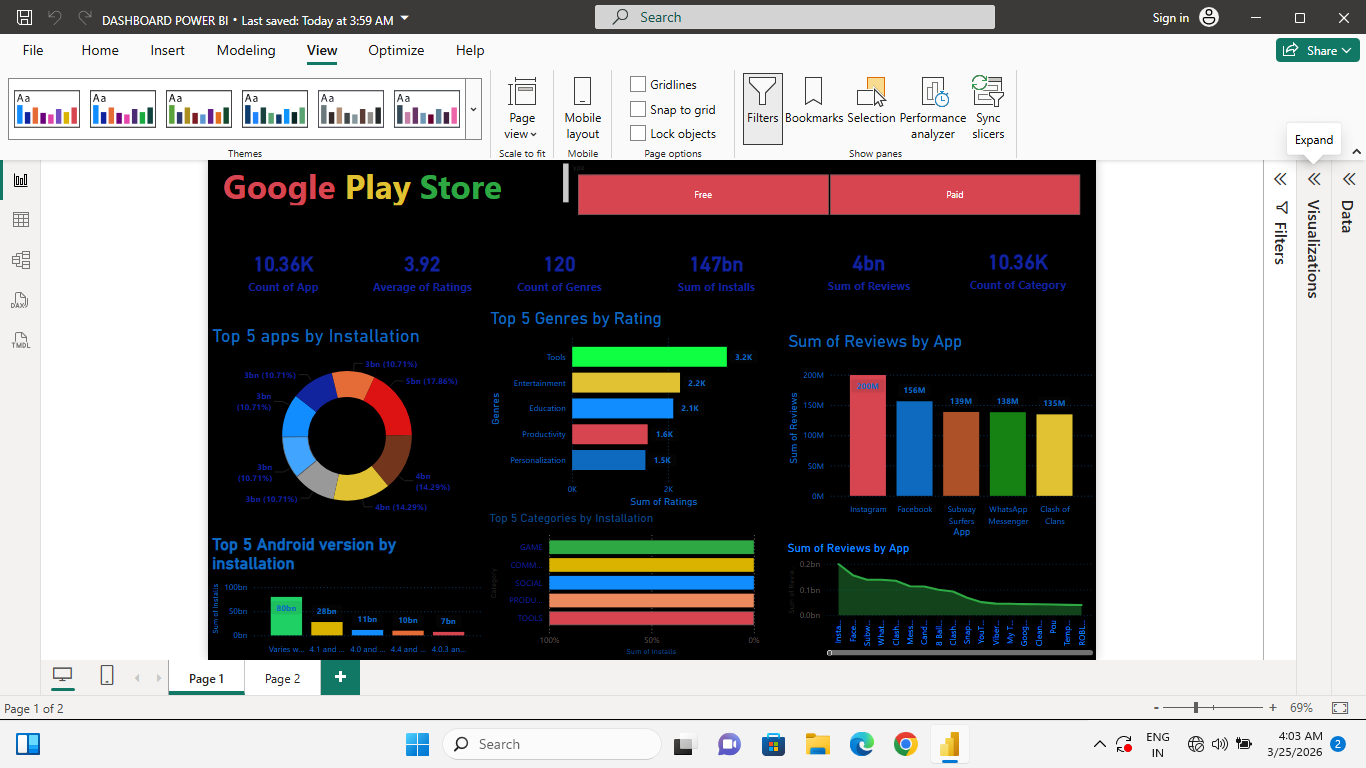

The dashboard page shown, as its layout file describes it:
{"tool":"powerbi","page":{"name":"Page 1","canvas":[1280,720],"ordinal":0},"visuals":[{"type":"card","fields":{"Values":["CountNonNull(Table1.App)"]},"box":[0,70.6,217.4,175.7],"z":0},{"type":"card","fields":{"Values":["Avg(Table1.Ratings)"]},"box":[217.4,70.6,182.9,174.2],"z":1000},{"type":"card","fields":{"Values":["Count(Table1.Genres)"]},"box":[400.3,70.6,211.7,174.2],"z":2000},{"type":"card","fields":{"Values":["Sum(Table1.Installs)"]},"box":[612,70.6,240.5,174.2],"z":3000},{"type":"card","fields":{"Values":["Sum(Table1.Reviews)"]},"box":[851,70.6,201.6,172.8],"z":4000},{"type":"card","fields":{"Values":["CountNonNull(Table1.Category)"]},"box":[1052.6,70.6,227.5,169.9],"z":5000},{"type":"donutChart","title":"Top 5 apps by Installation ","fields":{"Category":["Table1.App"],"Y":["Sum(Table1.Installs)"]},"box":[0,236.2,400.3,292.3],"z":6000},{"type":"barChart","title":"Top 5 Genres by Rating","fields":{"Category":["Table1.Genres"],"Y":["Sum(Table1.Ratings)"]},"box":[399.8,213.3,401.5,292.3],"z":7000},{"type":"columnChart","fields":{"Category":["Table1.App"],"Y":["Sum(Table1.Reviews)"]},"box":[829.8,246.9,450.2,302.4],"z":8000},{"type":"columnChart","title":"Top 5 Android version by installation ","fields":{"Category":["Table1.Android Ver"],"Y":["Sum(Table1.Installs)"]},"box":[0,538,400,182],"z":9000},{"type":"hundredPercentStackedBarChart","title":"Top 5 Categories by Installation","fields":{"Category":["Table1.Category"],"Y":["Sum(Table1.Installs)"]},"box":[399.8,505.6,399.8,213.3],"z":10000},{"type":"areaChart","fields":{"Category":["Table1.App"],"Y":["Sum(Table1.Reviews)"]},"box":[830,549,450,170],"z":11000},{"type":"slicer","fields":{"Values":["Table1.Type"]},"box":[506.7,0,773.3,85.9],"z":12000},{"type":"textbox","box":[17.5,0,506.7,70.1],"z":13000}]}

Visuals, with their boxes on the page's 1280x720 design canvas (x1, y1, x2, y2). These are canvas units, not pixel positions in the 1366x768 screenshot, which may show the page scaled, cropped or inside an application window:
card - CountNonNull(Table1.App): locate(0, 71, 217, 246)
card - Avg(Table1.Ratings): locate(217, 71, 400, 245)
card - Count(Table1.Genres): locate(400, 71, 612, 245)
card - Sum(Table1.Installs): locate(612, 71, 852, 245)
card - Sum(Table1.Reviews): locate(851, 71, 1053, 243)
card - CountNonNull(Table1.Category): locate(1053, 71, 1280, 240)
"Top 5 apps by Installation " donutChart: locate(0, 236, 400, 528)
"Top 5 Genres by Rating" barChart: locate(400, 213, 801, 506)
columnChart - Table1.App x Sum(Table1.Reviews): locate(830, 247, 1280, 549)
"Top 5 Android version by installation " columnChart: locate(0, 538, 400, 720)
"Top 5 Categories by Installation" hundredPercentStackedBarChart: locate(400, 506, 800, 719)
areaChart - Table1.App x Sum(Table1.Reviews): locate(830, 549, 1280, 719)
slicer - Table1.Type: locate(507, 0, 1280, 86)
textbox: locate(18, 0, 524, 70)
